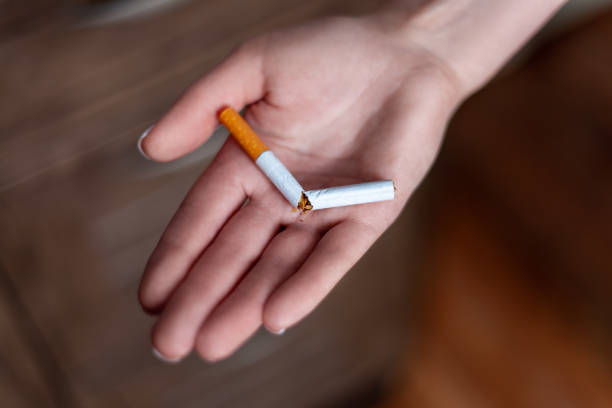cigarette: (219, 107, 309, 211), (300, 178, 396, 211)
